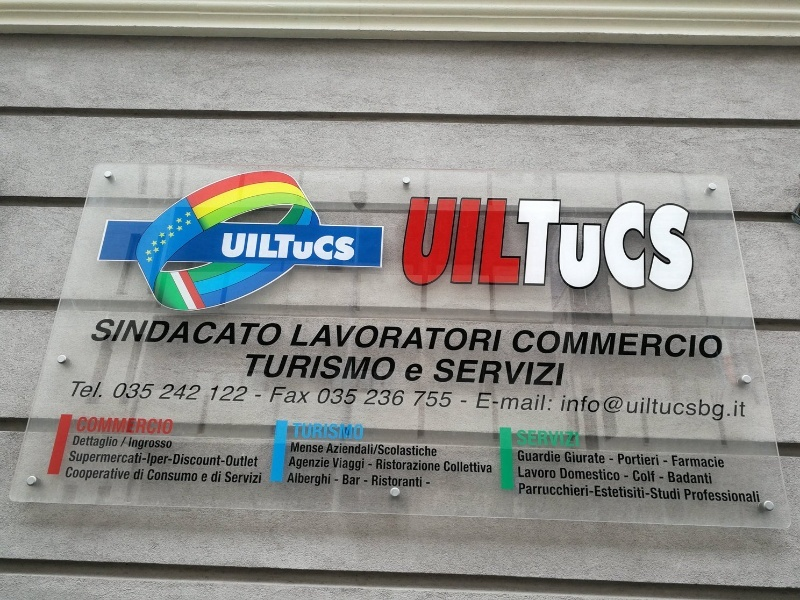text: (417, 196, 432, 292), (433, 196, 448, 292), (449, 196, 464, 292), (465, 196, 480, 292), (481, 196, 496, 292), (497, 196, 512, 292), (513, 196, 528, 292), (529, 196, 544, 292), (545, 196, 560, 292), (561, 196, 576, 292), (577, 196, 592, 292), (593, 196, 608, 292), (609, 196, 624, 292), (625, 196, 640, 292), (641, 196, 656, 292), (657, 196, 672, 292), (673, 196, 688, 292), (689, 196, 697, 292), (411, 196, 416, 292), (225, 231, 240, 262), (241, 231, 256, 262), (257, 231, 272, 262), (273, 231, 288, 262), (289, 231, 304, 262), (305, 231, 320, 262), (321, 231, 336, 262), (337, 231, 352, 262), (113, 317, 128, 348), (129, 317, 144, 348), (145, 317, 160, 348), (161, 317, 176, 348), (177, 317, 192, 348), (193, 317, 208, 348), (209, 317, 224, 348), (225, 317, 240, 348), (241, 317, 256, 348), (257, 317, 272, 348), (273, 317, 288, 348), (513, 330, 528, 361), (529, 330, 544, 361), (545, 330, 560, 361), (561, 330, 576, 361), (577, 330, 592, 361), (593, 330, 608, 361), (609, 330, 624, 361), (625, 330, 640, 361), (641, 330, 656, 361), (657, 330, 672, 361), (673, 330, 688, 361), (689, 330, 704, 361), (705, 330, 720, 361), (305, 323, 320, 353), (321, 323, 336, 353), (337, 323, 352, 353), (353, 323, 368, 353), (369, 323, 384, 353), (385, 323, 400, 353), (401, 323, 416, 353), (417, 323, 432, 353), (433, 323, 448, 353), (449, 323, 464, 353), (465, 323, 480, 353), (481, 323, 496, 353), (449, 359, 464, 389), (465, 359, 480, 389), (481, 359, 496, 389), (497, 359, 512, 389), (513, 359, 528, 389), (529, 359, 544, 389), (545, 359, 560, 389), (577, 394, 592, 424), (593, 394, 608, 424), (609, 394, 624, 424), (625, 394, 640, 424), (641, 394, 656, 424), (657, 394, 672, 424), (673, 394, 688, 424), (689, 394, 704, 424), (705, 394, 720, 424), (721, 394, 736, 424), (257, 353, 272, 382), (273, 353, 288, 382), (289, 353, 304, 382), (305, 353, 320, 382), (321, 353, 336, 382), (337, 353, 352, 382), (353, 353, 368, 382), (369, 353, 384, 382), (562, 394, 576, 424), (99, 317, 112, 348), (481, 390, 496, 414), (497, 390, 512, 414), (513, 390, 528, 414), (529, 390, 544, 414), (385, 353, 397, 382), (529, 427, 544, 450), (545, 427, 560, 450), (561, 427, 576, 450), (81, 414, 96, 436), (97, 414, 112, 436), (113, 414, 128, 436), (129, 414, 144, 436), (145, 414, 160, 436), (161, 414, 176, 436), (737, 394, 748, 424), (369, 388, 384, 409), (385, 388, 400, 409), (81, 449, 96, 470), (97, 449, 112, 470), (113, 449, 128, 470), (129, 449, 144, 470), (145, 449, 160, 470), (161, 449, 176, 470), (177, 449, 192, 470), (193, 449, 208, 470), (209, 449, 224, 470), (225, 449, 240, 470), (241, 449, 256, 470), (529, 482, 544, 503), (545, 482, 560, 503), (561, 482, 576, 503), (577, 482, 592, 503), (593, 482, 608, 503), (609, 482, 624, 503), (625, 482, 640, 503), (641, 482, 656, 503), (657, 482, 672, 503), (438, 359, 448, 389), (305, 421, 320, 441), (321, 421, 336, 441), (337, 421, 352, 441), (417, 390, 432, 410), (433, 390, 448, 410), (129, 382, 144, 401), (321, 387, 336, 406), (337, 387, 352, 406), (225, 384, 240, 403), (289, 386, 304, 405), (177, 383, 192, 401), (689, 487, 704, 505), (705, 487, 720, 505), (721, 487, 736, 505), (737, 487, 752, 505), (274, 386, 288, 405), (545, 390, 556, 414), (81, 381, 96, 398), (81, 465, 96, 482), (97, 465, 112, 482), (113, 465, 128, 482), (529, 448, 544, 465), (545, 448, 560, 465), (517, 427, 528, 450), (292, 421, 304, 441), (353, 421, 365, 441), (337, 442, 352, 458), (353, 442, 368, 458), (369, 442, 384, 458), (385, 442, 400, 458), (401, 442, 416, 458), (417, 442, 432, 458), (289, 472, 304, 488), (305, 472, 320, 488), (248, 353, 256, 382), (517, 482, 528, 503), (673, 482, 684, 503), (145, 382, 157, 401), (212, 384, 224, 403), (241, 470, 256, 485), (449, 460, 464, 475), (465, 460, 480, 475), (337, 457, 352, 472), (561, 467, 576, 482), (577, 467, 592, 482), (593, 467, 608, 482), (67, 465, 80, 482), (497, 323, 504, 353), (401, 388, 411, 409), (161, 469, 176, 483), (177, 469, 192, 483), (226, 470, 240, 485), (305, 456, 320, 470), (529, 466, 544, 480), (385, 475, 400, 489), (401, 475, 416, 489), (385, 459, 400, 473), (401, 459, 416, 473), (417, 459, 432, 473), (81, 435, 96, 449), (97, 435, 112, 449), (145, 437, 160, 451), (625, 453, 640, 467), (641, 453, 656, 467), (673, 455, 688, 469), (689, 455, 704, 469), (705, 455, 720, 469), (641, 469, 656, 483), (290, 456, 304, 470), (130, 437, 144, 451), (305, 441, 320, 454), (577, 451, 592, 464), (673, 471, 688, 484), (689, 471, 704, 484), (118, 382, 128, 401), (241, 384, 251, 403), (71, 449, 80, 470), (517, 448, 528, 465), (290, 441, 304, 454), (515, 466, 528, 480), (417, 363, 426, 383), (166, 383, 176, 401), (193, 383, 203, 401), (481, 460, 493, 475), (753, 487, 763, 505), (353, 457, 365, 472), (609, 467, 621, 482), (321, 472, 332, 488), (593, 451, 606, 464), (148, 469, 160, 483), (372, 475, 384, 489), (161, 437, 173, 451), (212, 470, 224, 483), (545, 466, 556, 480), (305, 386, 313, 405), (561, 359, 566, 389), (321, 456, 331, 470), (353, 387, 360, 406), (566, 451, 576, 464), (300, 323, 304, 353), (410, 363, 416, 383), (73, 381, 80, 398), (135, 468, 144, 481), (343, 474, 352, 487), (329, 442, 336, 458), (433, 459, 441, 473), (632, 469, 640, 483), (682, 487, 688, 505), (353, 474, 361, 487), (705, 471, 713, 484), (97, 381, 103, 398), (449, 390, 454, 410), (377, 459, 384, 473), (353, 231, 356, 262), (721, 330, 724, 361), (577, 427, 581, 450), (257, 470, 263, 485), (120, 437, 128, 448), (193, 469, 199, 483), (417, 475, 423, 489), (113, 435, 119, 449), (618, 453, 624, 467), (433, 442, 438, 458), (75, 435, 80, 449), (202, 471, 208, 482), (667, 471, 672, 484), (257, 449, 260, 470), (444, 460, 448, 475), (369, 463, 384, 467), (721, 455, 725, 469), (321, 441, 325, 454), (129, 465, 132, 482), (333, 457, 336, 472), (609, 458, 624, 461), (657, 453, 660, 467), (660, 476, 672, 479), (663, 460, 672, 463), (257, 394, 263, 398), (367, 388, 368, 409), (415, 390, 416, 410), (460, 399, 464, 404), (363, 479, 368, 483), (426, 481, 432, 484), (561, 448, 562, 465), (465, 399, 468, 404), (625, 475, 630, 478), (671, 455, 672, 469), (145, 468, 146, 481), (334, 478, 336, 482), (337, 478, 339, 482), (255, 394, 256, 398)
